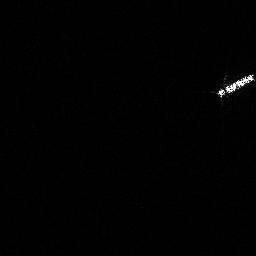ship: (212, 70, 256, 101)
